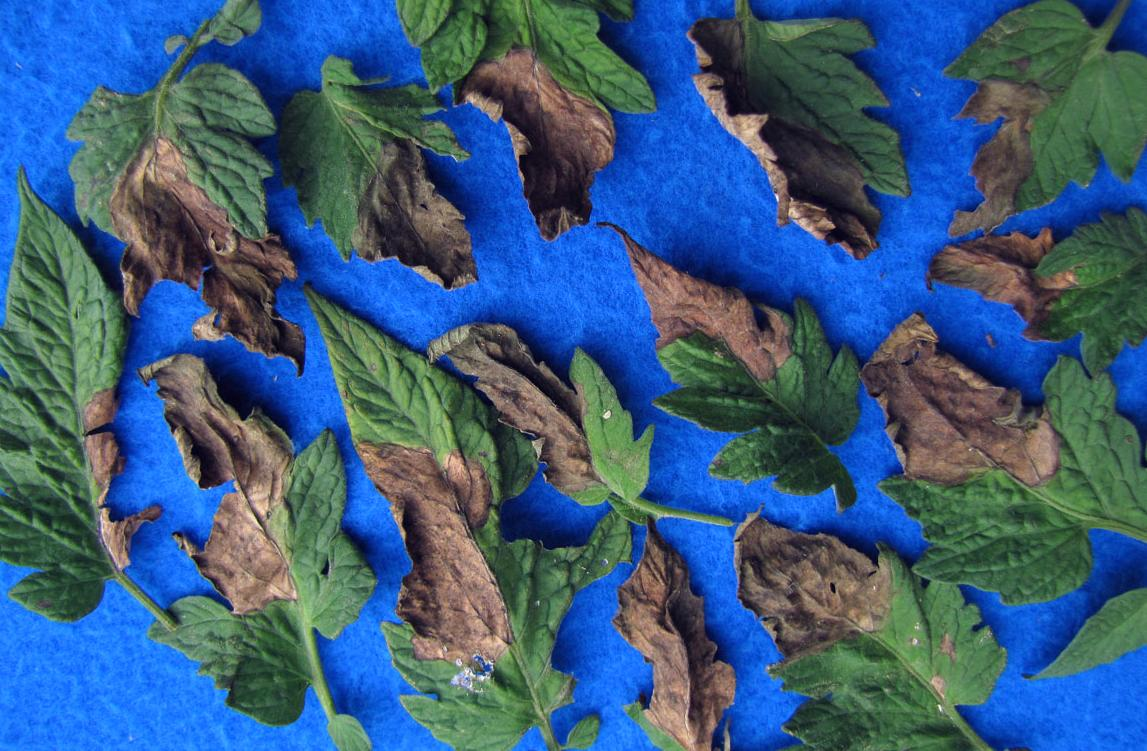Tomato leaf late blight: (321, 306, 563, 751), (66, 1, 316, 373), (145, 346, 368, 751), (731, 520, 1034, 751), (0, 191, 153, 639), (369, 0, 652, 234), (674, 0, 915, 268), (623, 258, 874, 501), (248, 70, 511, 295), (424, 314, 696, 518), (947, 0, 1147, 240), (920, 220, 1147, 350)
